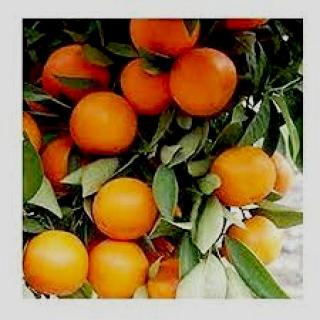orange: (166, 42, 259, 117), (61, 89, 144, 167), (85, 174, 169, 246), (33, 223, 101, 310), (74, 235, 156, 302), (204, 158, 280, 228)
